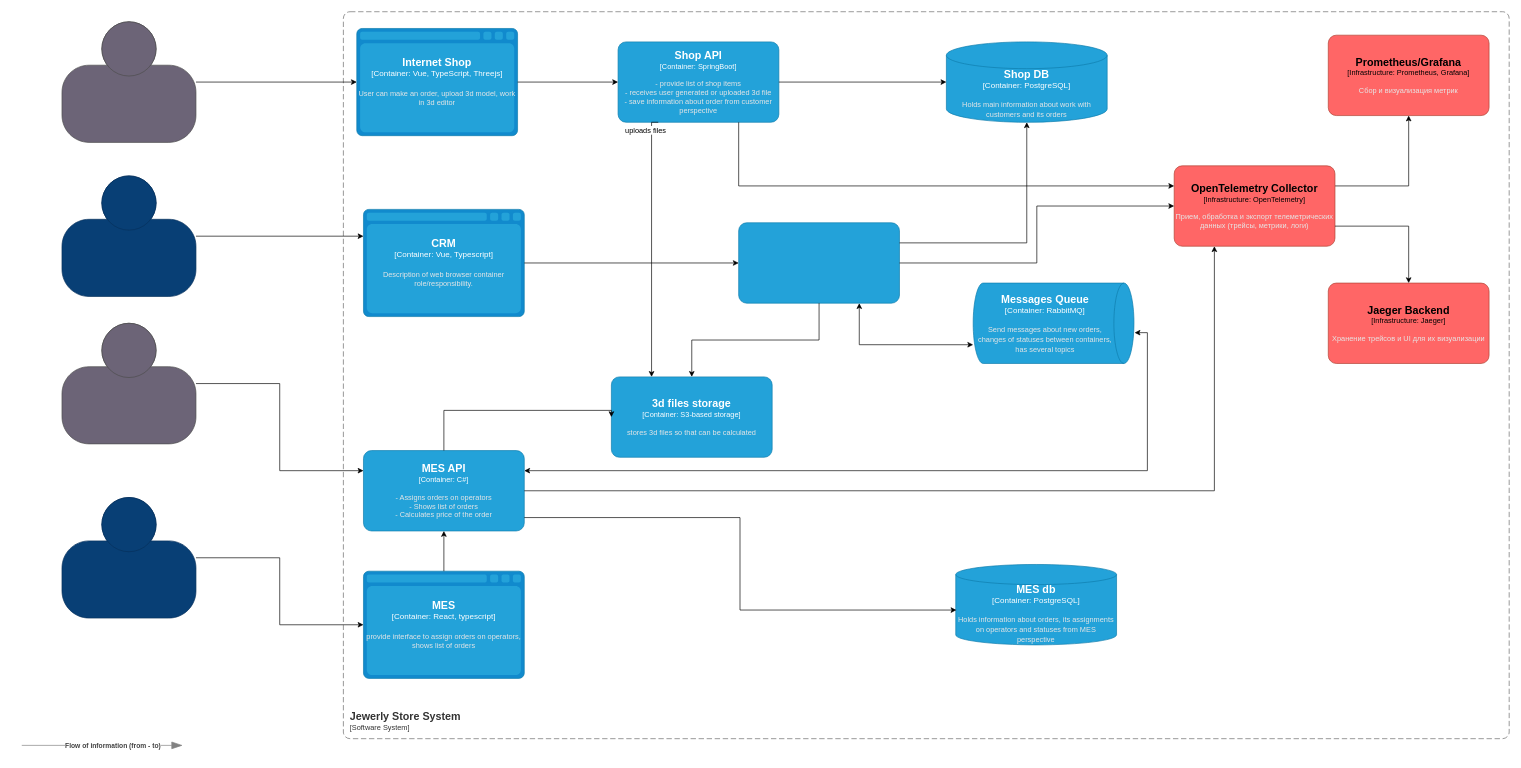
The diagram is 1521 pixels wide and 768 high, and some of its shapes have lost their labels. Here are the shapes that lost their labels. From the top down, the centre of each, then its label:
the point at 128,81: Customer [Person] Description of external person.
the point at 128,235: Seller [Person] Operates with order, confirms manufacturing for the user
the point at 818,262: CRM API [Container: SpringBoot] Description of container role/responsibility.
the point at 128,383: API user [Person] Description of external person.
the point at 128,557: Operator [Person] Takes order in work, manufactures jewerly
